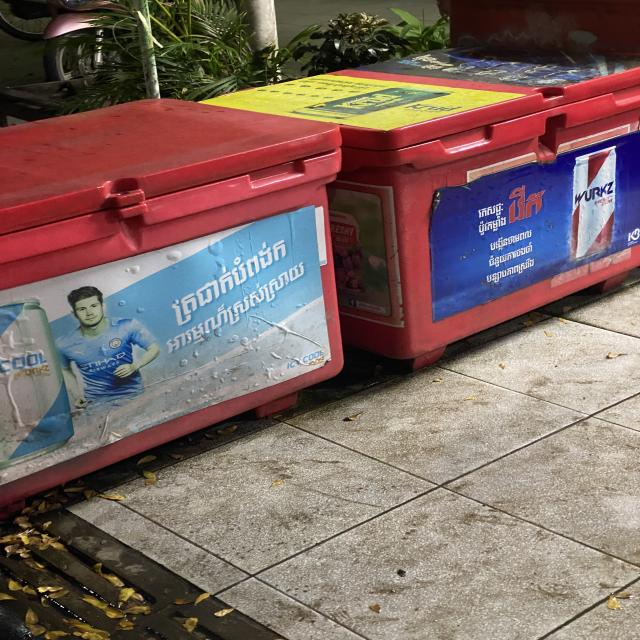Yolov11kh: (155, 252, 315, 362), (163, 228, 302, 332), (503, 176, 552, 228), (484, 223, 540, 257), (485, 237, 539, 269), (484, 256, 540, 286), (475, 215, 509, 238), (475, 199, 507, 221)
